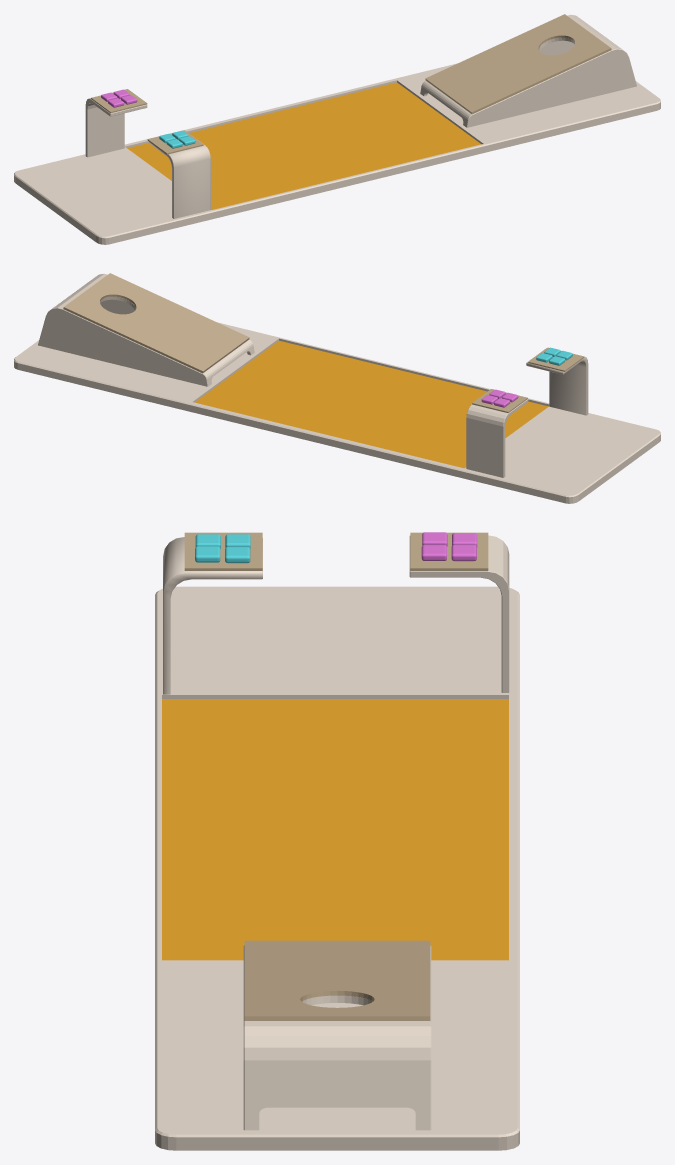
File: toybox_beanbag_normal_blockout_01_mesh.fbx
The picture shows the model from 3 angles, top to bottom: view 1: azimuth 30°, elevation 25°; view 2: azimuth 150°, elevation 25°; view 3: azimuth 270°, elevation 25°; orthographic projection. The views are drawn at different scales.
Parts seen in each view (by area): view 1: Cube.063, Cube.069, Cube.074, Cube.062, Cube.057, Cube.064, Cube.070, Cube.072; view 2: Cube.063, Cube.069, Cube.074, Cube.062, Cube.064, Cube.057, Cube.072, Cube.070; view 3: Cube.069, Cube.063, Cube.062, Cube.074, Cube.057, Cube.064, Cube.072, Cube.070.
Boxes of the visible parts, x1=… form: Cube.063: x1=14, y1=63, x2=660, y2=244; Cube.069: x1=127, y1=82, x2=480, y2=209; Cube.074: x1=425, y1=14, x2=611, y2=114; Cube.062: x1=420, y1=14, x2=636, y2=127; Cube.057: x1=149, y1=131, x2=210, y2=218; Cube.064: x1=85, y1=98, x2=147, y2=157; Cube.070: x1=91, y1=89, x2=147, y2=113; Cube.072: x1=147, y1=130, x2=203, y2=154; Cube.063: x1=14, y1=322, x2=660, y2=503; Cube.069: x1=195, y1=340, x2=548, y2=468; Cube.074: x1=63, y1=273, x2=249, y2=373; Cube.062: x1=38, y1=273, x2=254, y2=386; Cube.064: x1=466, y1=399, x2=528, y2=477; Cube.057: x1=526, y1=348, x2=588, y2=415; Cube.072: x1=528, y1=347, x2=584, y2=371; Cube.070: x1=472, y1=389, x2=527, y2=413; Cube.069: x1=162, y1=699, x2=508, y2=960; Cube.063: x1=155, y1=586, x2=519, y2=1150; Cube.062: x1=243, y1=945, x2=431, y2=1130; Cube.074: x1=244, y1=940, x2=430, y2=1020; Cube.057: x1=163, y1=537, x2=262, y2=694; Cube.064: x1=409, y1=535, x2=509, y2=692; Cube.072: x1=184, y1=532, x2=262, y2=570; Cube.070: x1=410, y1=532, x2=488, y2=570.
Bounding box in the file's own units: 866 × 108 × 243.
